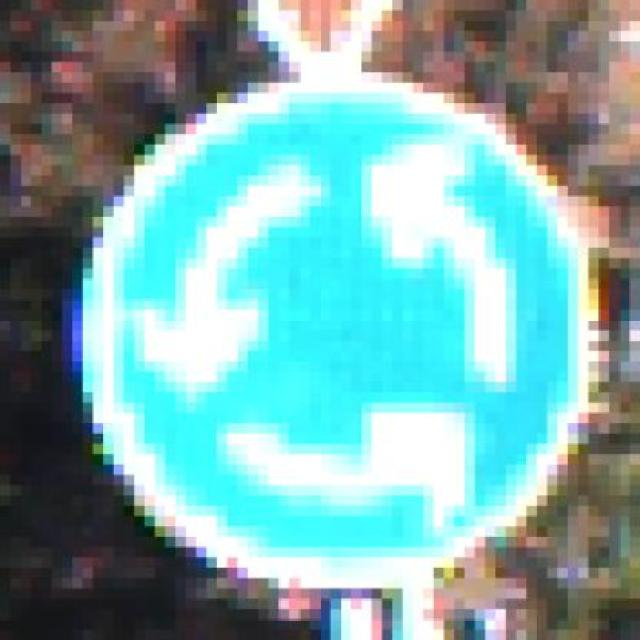Round-About: (52, 61, 619, 598)
